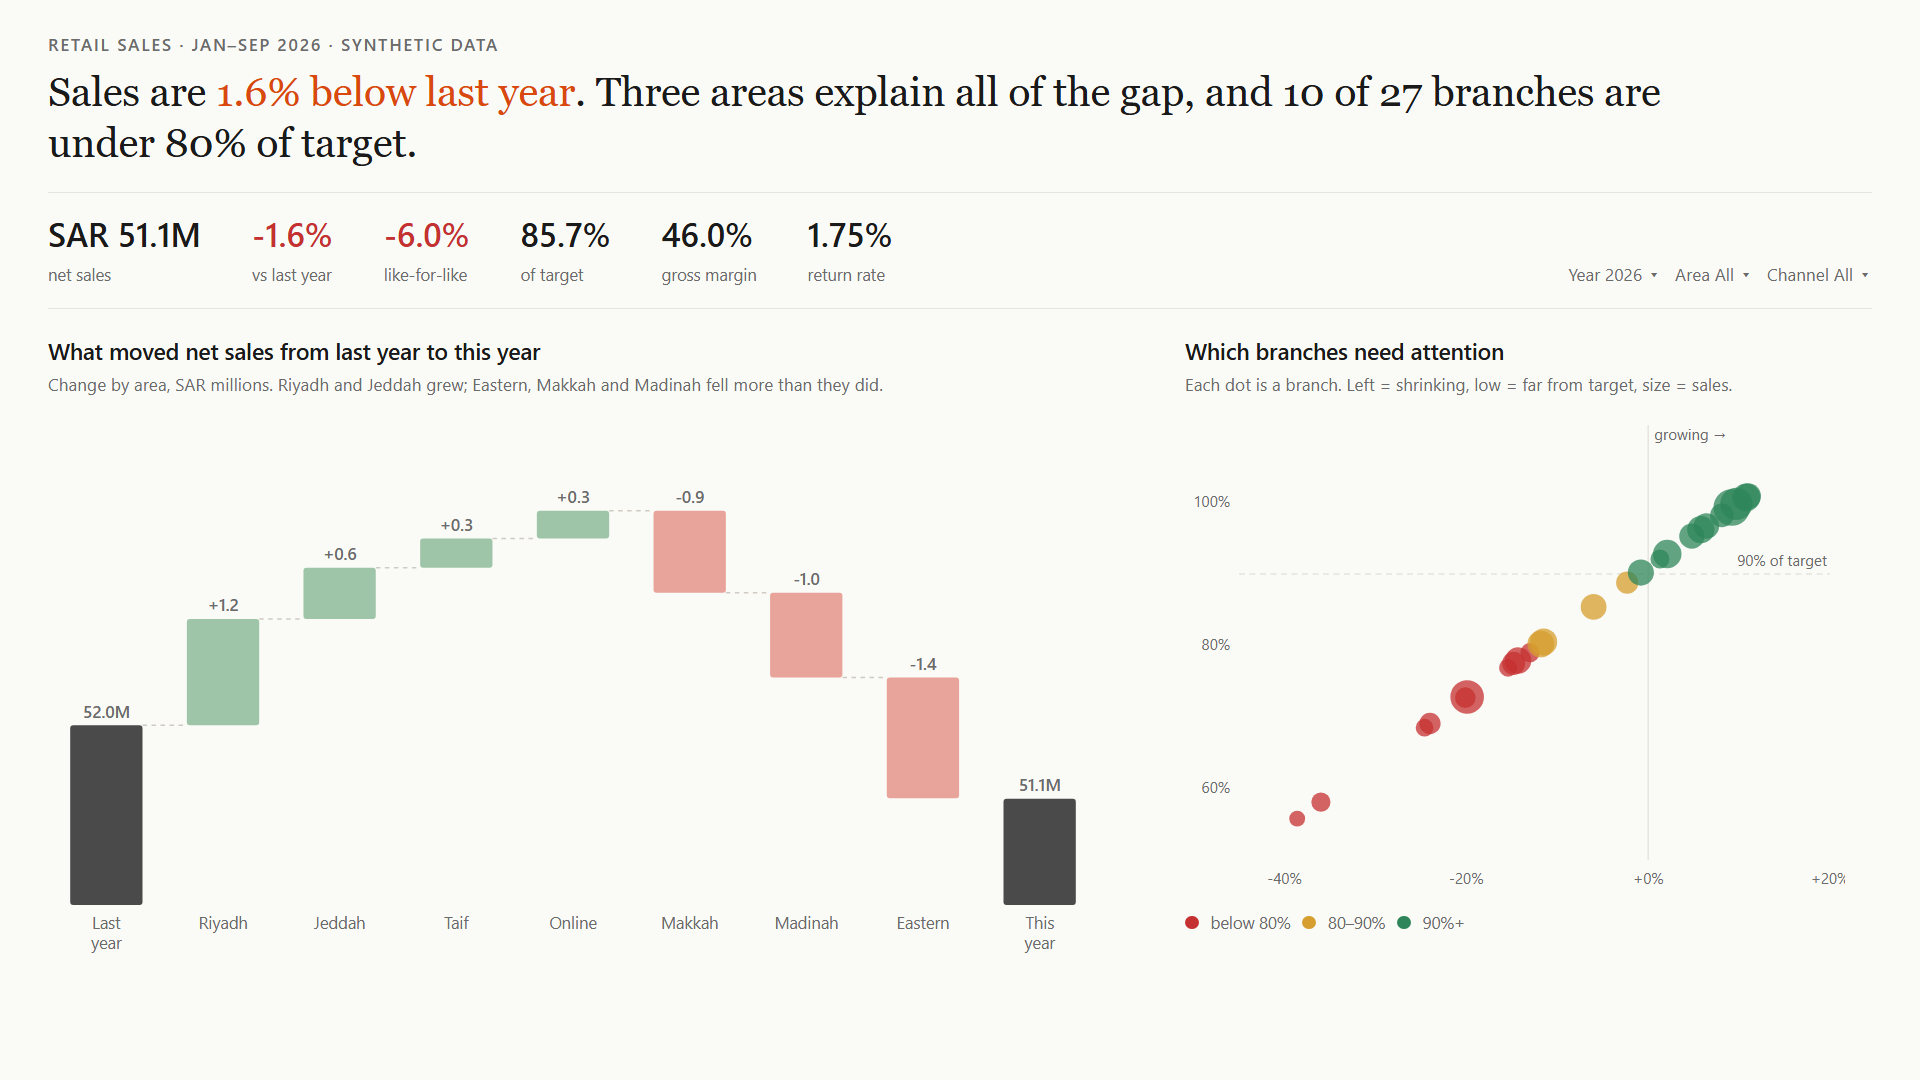

This screenshot's page, from the dashboard's own definition file:
{"tool":"powerbi","page":{"name":"Overview","canvas":[1280,720],"ordinal":0},"visuals":[{"type":"shape","box":[0,0,1280,62],"z":0},{"type":"shape","box":[24,14,34,34],"z":1},{"type":"textbox","box":[24,13,34,36],"z":2},{"type":"textbox","box":[68,8,420,50],"z":3},{"type":"pageNavigator","box":[956,12,300,40],"z":4},{"type":"shape","box":[0,62,1280,58],"z":5},{"type":"shape","box":[0,119,1280,1],"z":6},{"type":"textbox","box":[18,76,70,30],"z":7},{"type":"slicer","fields":{"Values":["Date.Year"]},"box":[92,68,150,48],"z":10},{"type":"slicer","fields":{"Values":["Date.Month"]},"box":[254,68,150,48],"z":11},{"type":"slicer","fields":{"Values":["Branch.area"]},"box":[416,68,150,48],"z":12},{"type":"slicer","fields":{"Values":["Branch.channel"]},"box":[578,68,150,48],"z":13},{"type":"slicer","fields":{"Values":["Product.category"]},"box":[740,68,150,48],"z":14},{"type":"shape","box":[24,130,236.8,120],"z":100},{"type":"cardVisual","fields":{"Data":["_Measures.Net Sales"]},"box":[32,132,224.8,116],"z":101},{"type":"shape","box":[24,138,4,104],"z":102},{"type":"shape","box":[272.8,130,236.8,120],"z":103},{"type":"cardVisual","fields":{"Data":["_Measures.Target Achievement %"]},"box":[280.8,132,224.8,116],"z":104},{"type":"shape","box":[272.8,138,4,104],"z":105},{"type":"shape","box":[521.6,130,236.8,120],"z":106},{"type":"cardVisual","fields":{"Data":["_Measures.LFL %"]},"box":[529.6,132,224.8,116],"z":107},{"type":"shape","box":[521.6,138,4,104],"z":108},{"type":"shape","box":[770.4,130,236.8,120],"z":109},{"type":"cardVisual","fields":{"Data":["_Measures.Gross Margin %"]},"box":[778.4,132,224.8,116],"z":110},{"type":"shape","box":[770.4,138,4,104],"z":111},{"type":"shape","box":[1019.2,130,236.8,120],"z":112},{"type":"cardVisual","fields":{"Data":["_Measures.Return Rate %"]},"box":[1027.2,132,224.8,116],"z":113},{"type":"shape","box":[1019.2,138,4,104],"z":114},{"type":"lineClusteredColumnComboChart","fields":{"Category":["Date.Month"],"Y":["_Measures.Net Sales"],"Y2":["_Measures.Net Sales LY"]},"box":[24,262,700,442],"z":300},{"type":"tableEx","title":"Area performance","fields":{"Values":["Branch.area","_Measures.Net Sales","_Measures.vs LY Label"]},"box":[736,262,520,229],"z":301},{"type":"tableEx","title":"Categories","fields":{"Values":["Product.category","_Measures.Net Sales","_Measures.Gross Margin %"]},"box":[736,503,520,201],"z":302}]}

Visuals, with their boxes in screenshot pixels (x1, y1, x2, y2), scaled from the page's 1280x720 canvas onto the 1920x1080 screenshot:
shape: Rect(0, 0, 1919, 93)
shape: Rect(36, 21, 87, 72)
textbox: Rect(36, 20, 87, 74)
textbox: Rect(102, 12, 732, 87)
pageNavigator: Rect(1434, 18, 1884, 78)
shape: Rect(0, 93, 1919, 180)
shape: Rect(0, 178, 1919, 180)
textbox: Rect(27, 114, 132, 159)
slicer - Date.Year: Rect(138, 102, 363, 174)
slicer - Date.Month: Rect(381, 102, 606, 174)
slicer - Branch.area: Rect(624, 102, 849, 174)
slicer - Branch.channel: Rect(867, 102, 1092, 174)
slicer - Product.category: Rect(1110, 102, 1335, 174)
shape: Rect(36, 195, 391, 375)
cardVisual - _Measures.Net Sales: Rect(48, 198, 385, 372)
shape: Rect(36, 207, 42, 363)
shape: Rect(409, 195, 764, 375)
cardVisual - _Measures.Target Achievement %: Rect(421, 198, 758, 372)
shape: Rect(409, 207, 415, 363)
shape: Rect(782, 195, 1138, 375)
cardVisual - _Measures.LFL %: Rect(794, 198, 1132, 372)
shape: Rect(782, 207, 788, 363)
shape: Rect(1156, 195, 1511, 375)
cardVisual - _Measures.Gross Margin %: Rect(1168, 198, 1505, 372)
shape: Rect(1156, 207, 1162, 363)
shape: Rect(1529, 195, 1884, 375)
cardVisual - _Measures.Return Rate %: Rect(1541, 198, 1878, 372)
shape: Rect(1529, 207, 1535, 363)
lineClusteredColumnComboChart - Date.Month x _Measures.Net Sales: Rect(36, 393, 1086, 1056)
"Area performance" tableEx: Rect(1104, 393, 1884, 736)
"Categories" tableEx: Rect(1104, 754, 1884, 1056)
